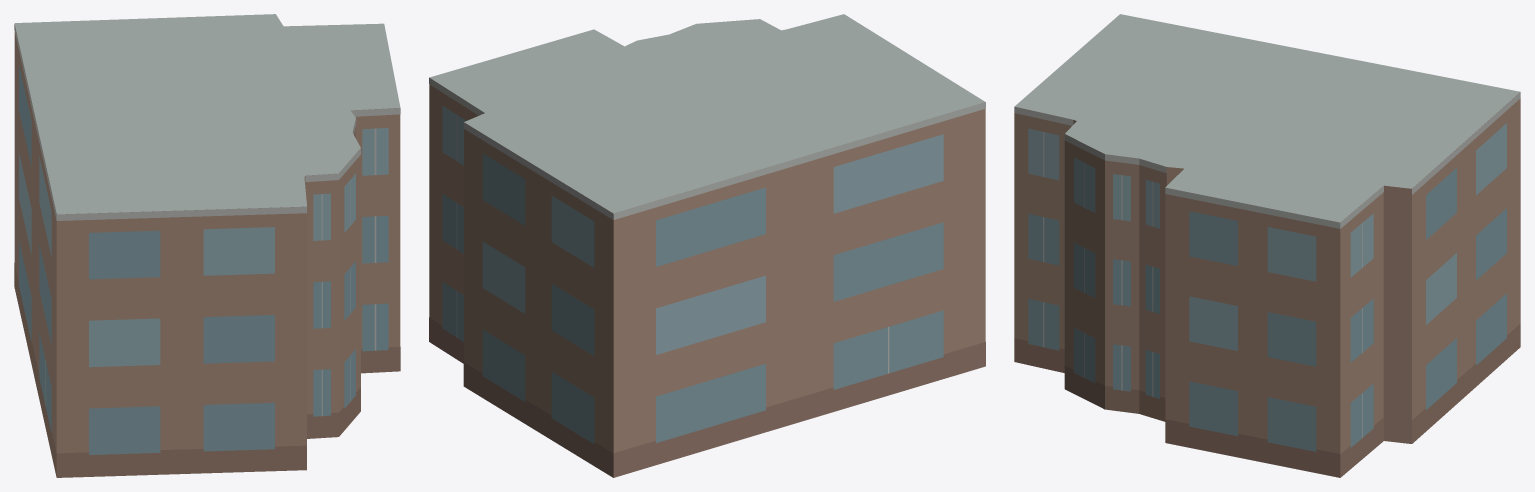
File: survey-upis-32616917.glb
3 renders of one model, left to right at view 1: azimuth 30°, elevation 25°; view 2: azimuth 150°, elevation 25°; view 3: azimuth 270°, elevation 25°, orthographic. The views are drawn at different scales.
Parts seen in each view (by area): view 1: survey-upis-32616917.tmp; view 2: survey-upis-32616917.tmp; view 3: survey-upis-32616917.tmp.
Part boxes in pixels (left/top/right/bottom): survey-upis-32616917.tmp: left=14, top=14, right=400, bottom=477; survey-upis-32616917.tmp: left=429, top=14, right=985, bottom=477; survey-upis-32616917.tmp: left=1014, top=14, right=1520, bottom=477.
Bounding box in the file's own units: 17.09 × 9.75 × 17.53.
